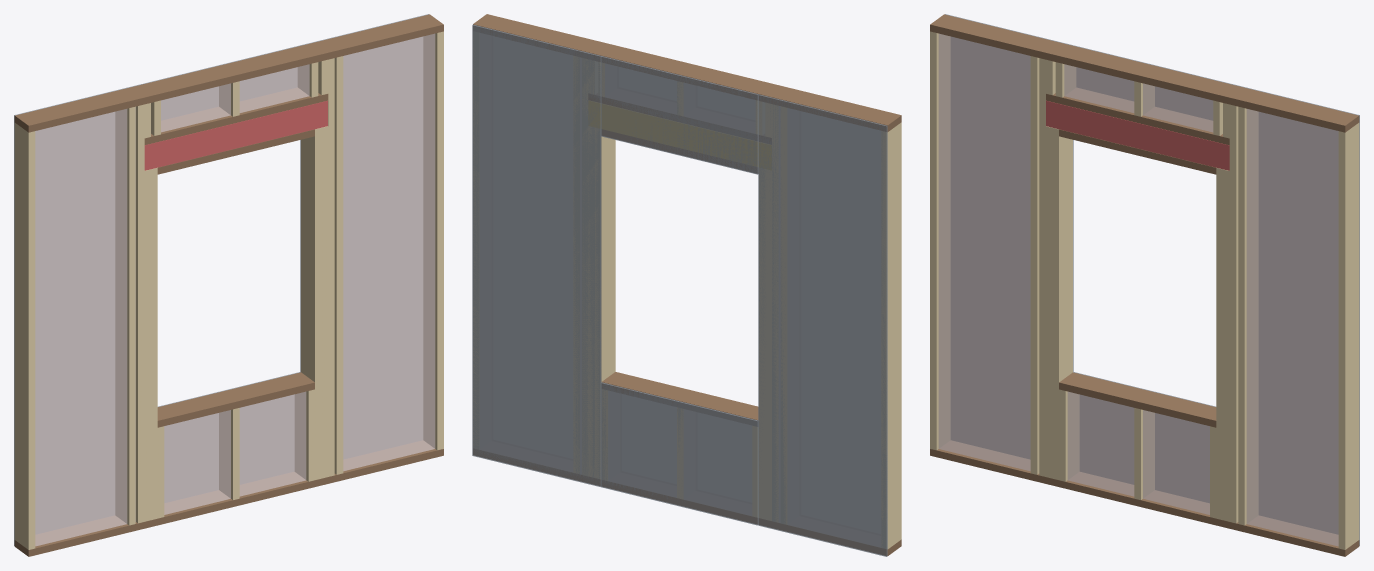
3 views of the same model, side by side, from view 1: azimuth 30°, elevation 25°; view 2: azimuth 150°, elevation 25°; view 3: azimuth 330°, elevation 25° (orthographic).
Visible parts, largest first — view 1: EX20 FF; view 2: EX20 FF; view 3: EX20 FF.
Part boxes in pixels (box(x1,y1,x2,y2)): EX20 FF: box(14, 14, 443, 556); EX20 FF: box(472, 14, 901, 556); EX20 FF: box(930, 14, 1359, 556).
Bounding box in the file's own units: 2.4 × 2.38 × 0.149.
